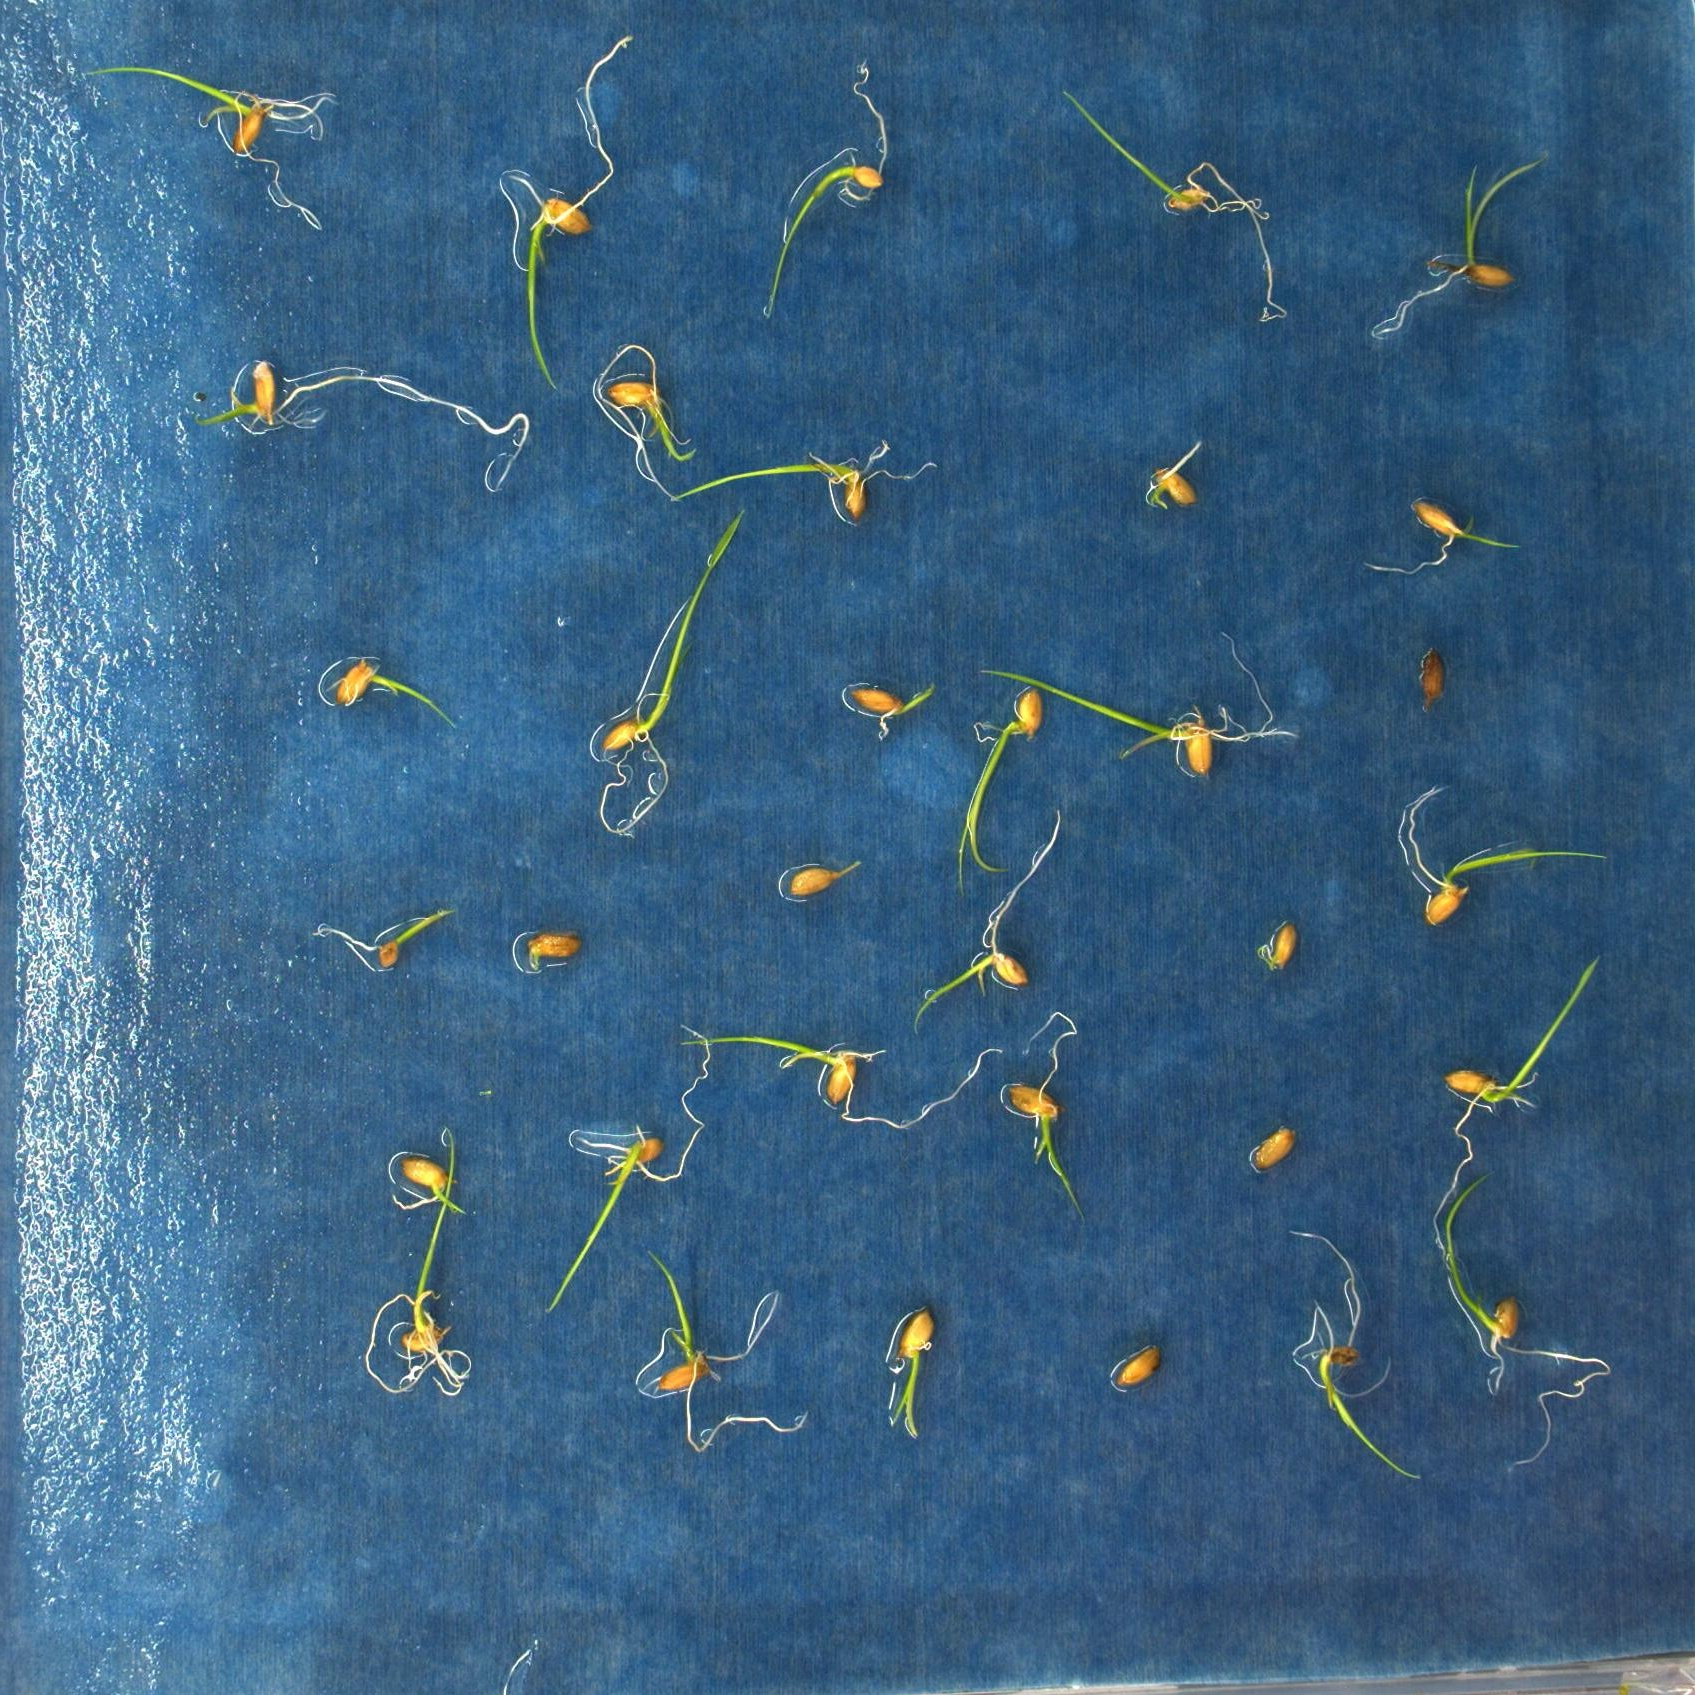not sprout: (1406, 647, 1451, 716), (520, 931, 587, 973), (1114, 1341, 1158, 1385), (1253, 1119, 1293, 1166), (1259, 919, 1295, 965)
sprout: (1065, 85, 1287, 323), (1434, 1181, 1610, 1471), (1433, 958, 1599, 1257), (598, 498, 740, 834), (545, 1021, 706, 1312), (976, 633, 1301, 775), (508, 37, 633, 390), (203, 362, 529, 497), (84, 67, 334, 230), (914, 806, 1065, 1034), (640, 1246, 807, 1451), (1295, 1231, 1423, 1482), (1366, 158, 1544, 338), (764, 67, 889, 307), (1397, 782, 1610, 924), (686, 1037, 1004, 1128), (667, 441, 945, 523), (947, 681, 1049, 896), (1001, 1007, 1085, 1222), (400, 1124, 466, 1386), (598, 341, 698, 504), (1363, 495, 1523, 573), (324, 661, 455, 731), (314, 908, 459, 967), (888, 1307, 931, 1437), (847, 680, 934, 740), (397, 1155, 470, 1220), (1142, 441, 1205, 508), (787, 855, 866, 894)
